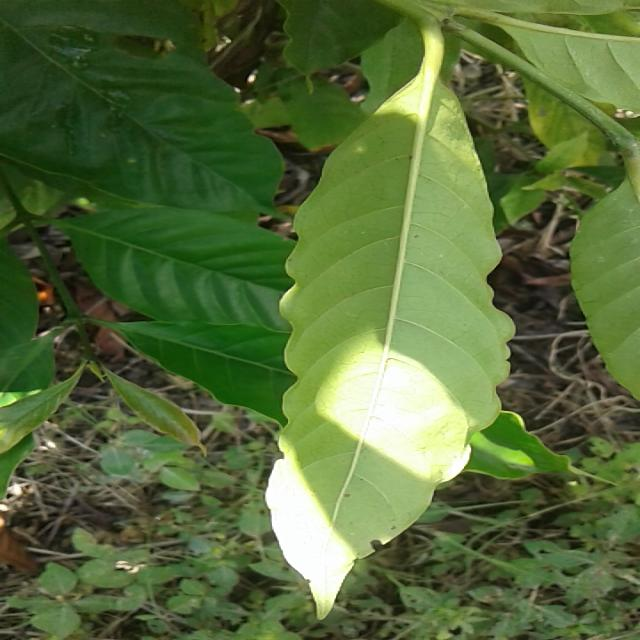Enfermedad-Roya: (263, 0, 514, 622)
